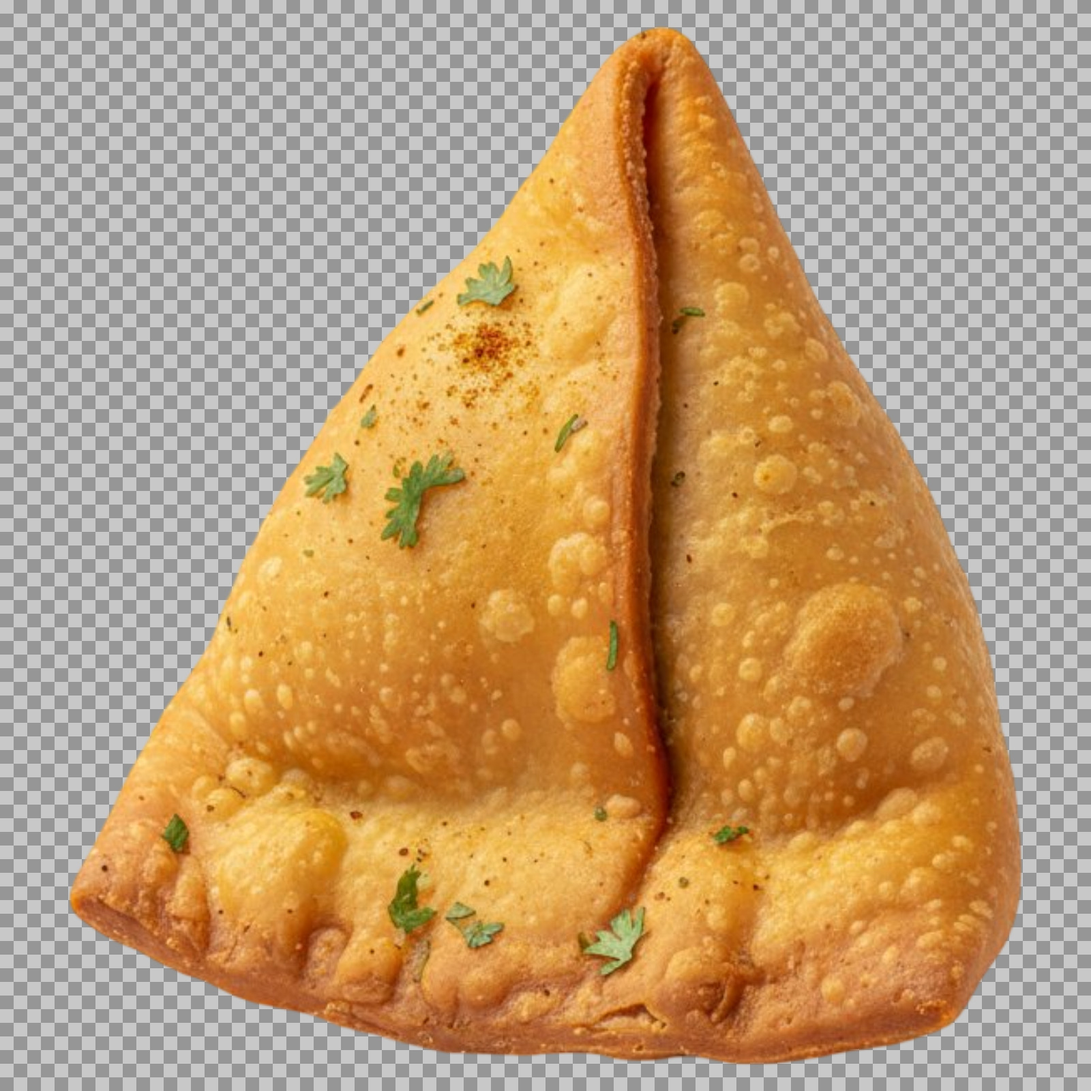samosa: (66, 25, 1048, 1075)
